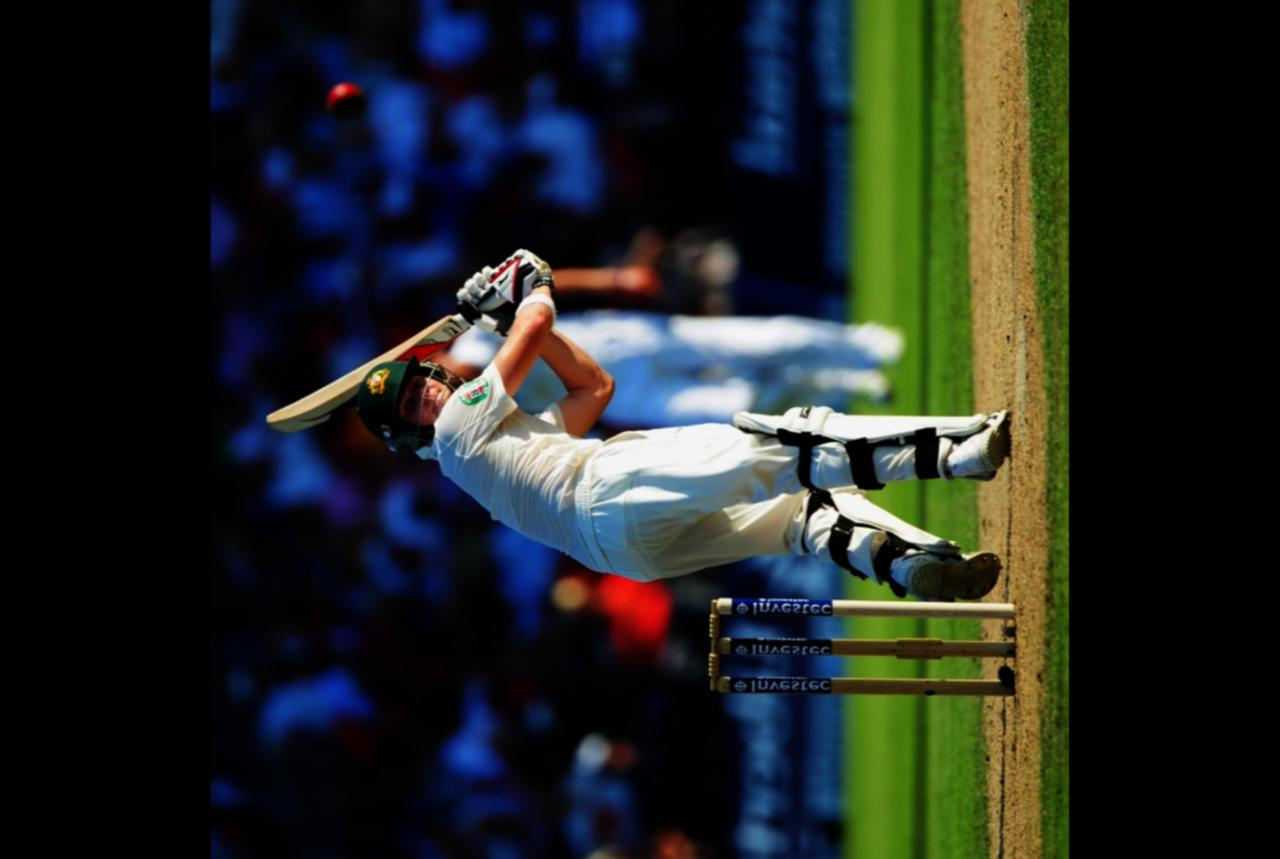batsman: (287, 252, 1070, 672)
